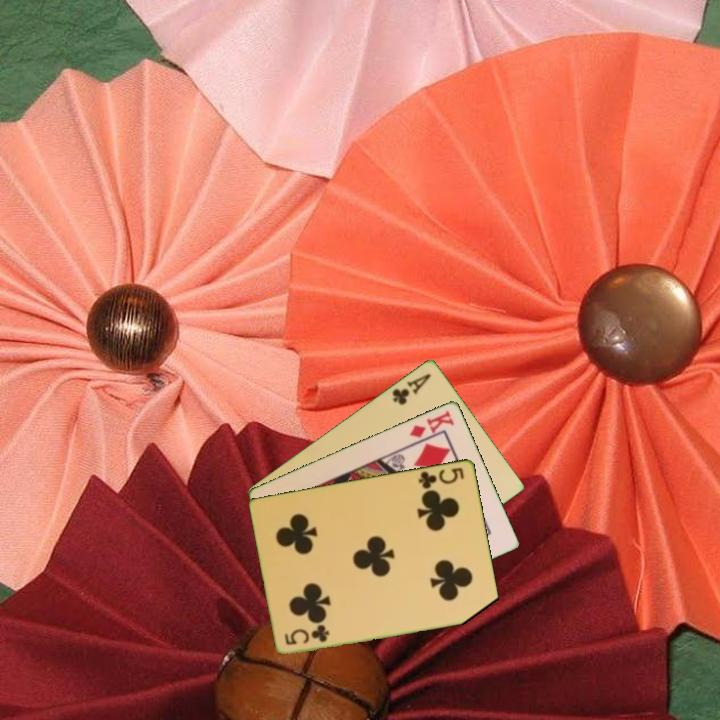5c: (415, 463, 467, 491), (281, 622, 332, 647)
Ac: (388, 369, 434, 408)
Kd: (406, 407, 457, 440)
